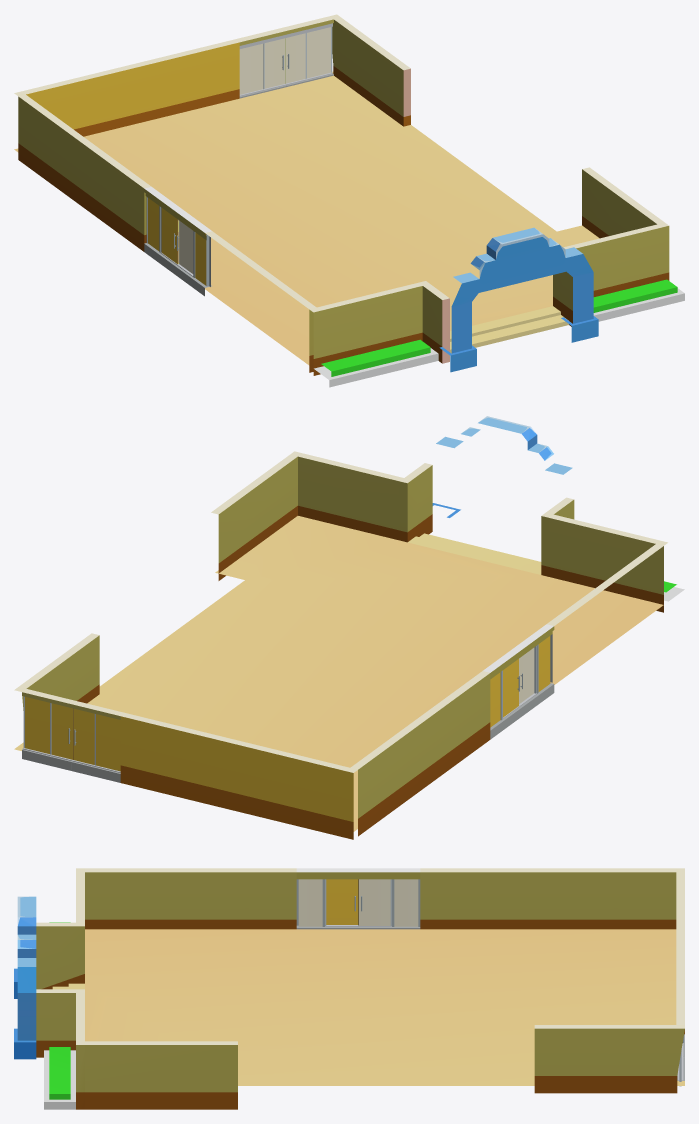
Rendered from Khu nha hang.gltf.
3 renders of one model, top to bottom at view 1: azimuth 30°, elevation 25°; view 2: azimuth 150°, elevation 25°; view 3: azimuth 270°, elevation 25°, orthographic. The views are drawn at different scales.
Parts seen in each view (by area): view 1: Khu nha hang; view 2: Khu nha hang; view 3: Khu nha hang.
Boxes of the visible parts, x1,y1,x2,y2 form: Khu nha hang: (14,14,684,387); Khu nha hang: (14,416,684,839); Khu nha hang: (14,868,684,1109).
Size of the model in its own units: 56.97 by 17.4 by 91.55.
Materials: 1 (1 with a texture image).
